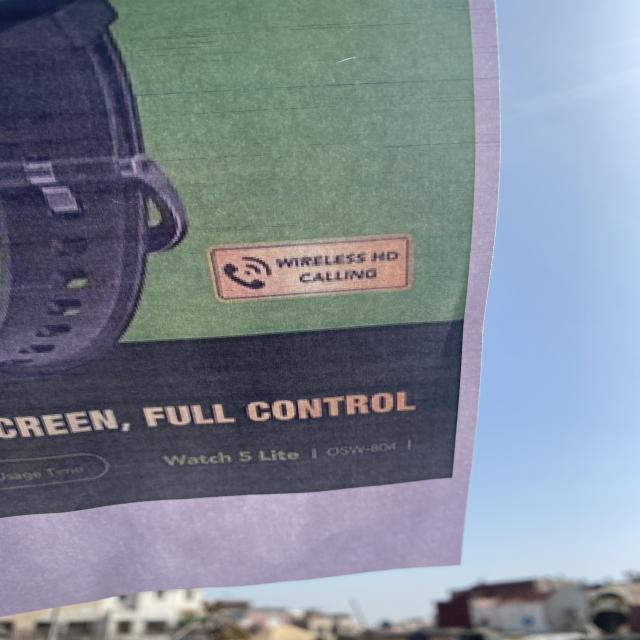Watch 5 Lite OSW-804: (158, 431, 428, 471)
